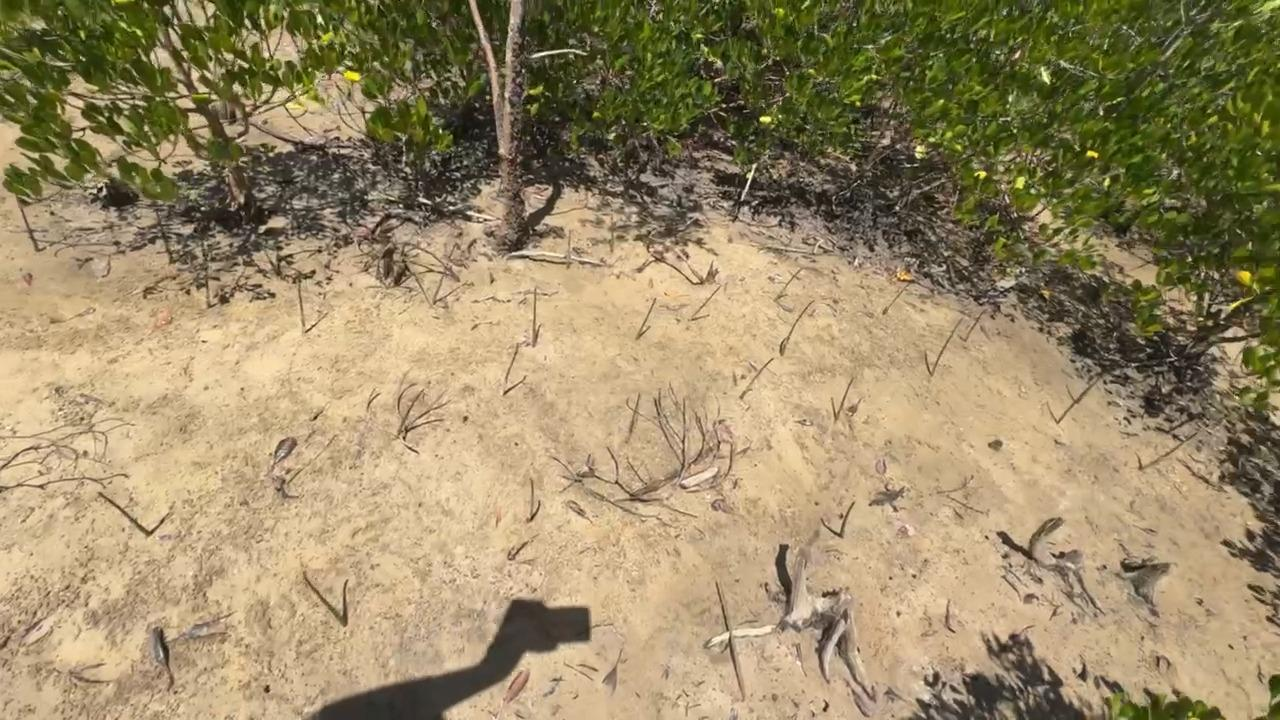Tree: (714, 576, 746, 698), (96, 488, 151, 536), (1136, 428, 1197, 469), (925, 316, 964, 375), (1055, 379, 1099, 425), (13, 192, 45, 254), (779, 299, 812, 356), (739, 357, 778, 399), (688, 284, 726, 321), (150, 203, 173, 263), (502, 343, 526, 398), (774, 265, 805, 302), (634, 297, 657, 340), (883, 280, 910, 316), (831, 376, 853, 420), (839, 497, 860, 540), (625, 392, 642, 445), (198, 246, 212, 308), (530, 286, 544, 348), (964, 306, 986, 342), (294, 280, 306, 339), (341, 579, 350, 627), (564, 229, 572, 270), (529, 500, 541, 522), (608, 212, 614, 253)
